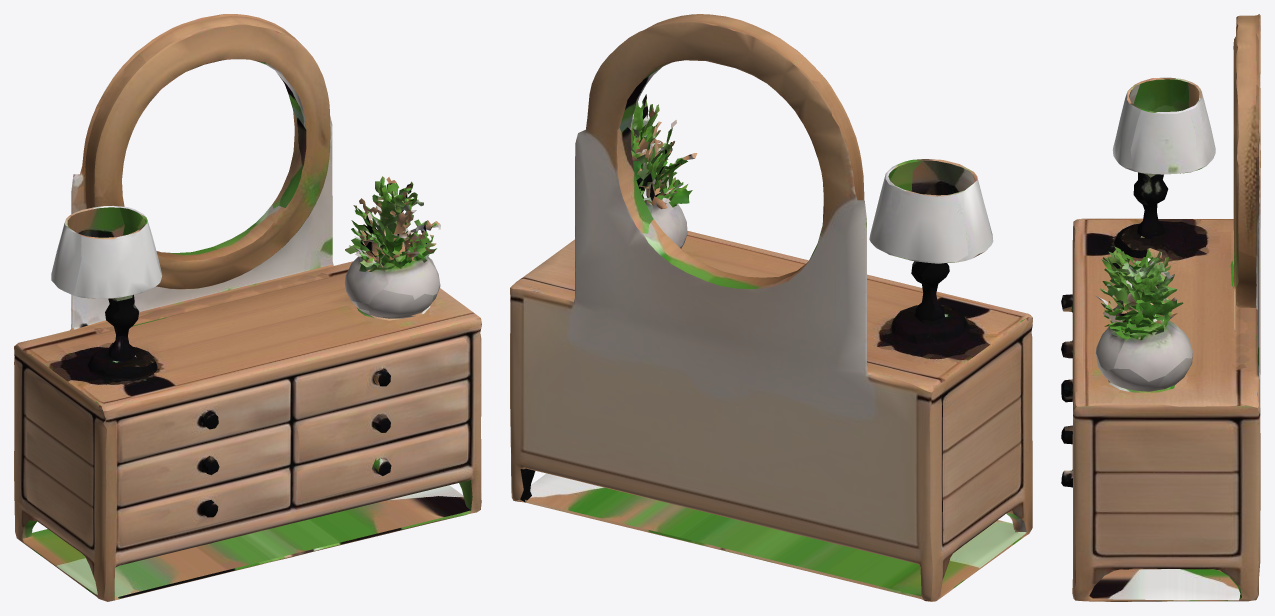
Rendered from dresser.glb.
3 views of the same model, side by side, from view 1: azimuth 30°, elevation 25°; view 2: azimuth 150°, elevation 25°; view 3: azimuth 270°, elevation 25° (orthographic). The views are drawn at different scales.
Parts seen in each view (by area): view 1: dresser; view 2: dresser; view 3: dresser.
Boxes of the visible parts, x1,y1,x2,y2 form: dresser: [14, 14, 481, 601]; dresser: [510, 14, 1032, 601]; dresser: [1061, 14, 1260, 601].
Bounding box in the file's own units: 0.841 × 1 × 0.3769.
1 material, 1 textured.
